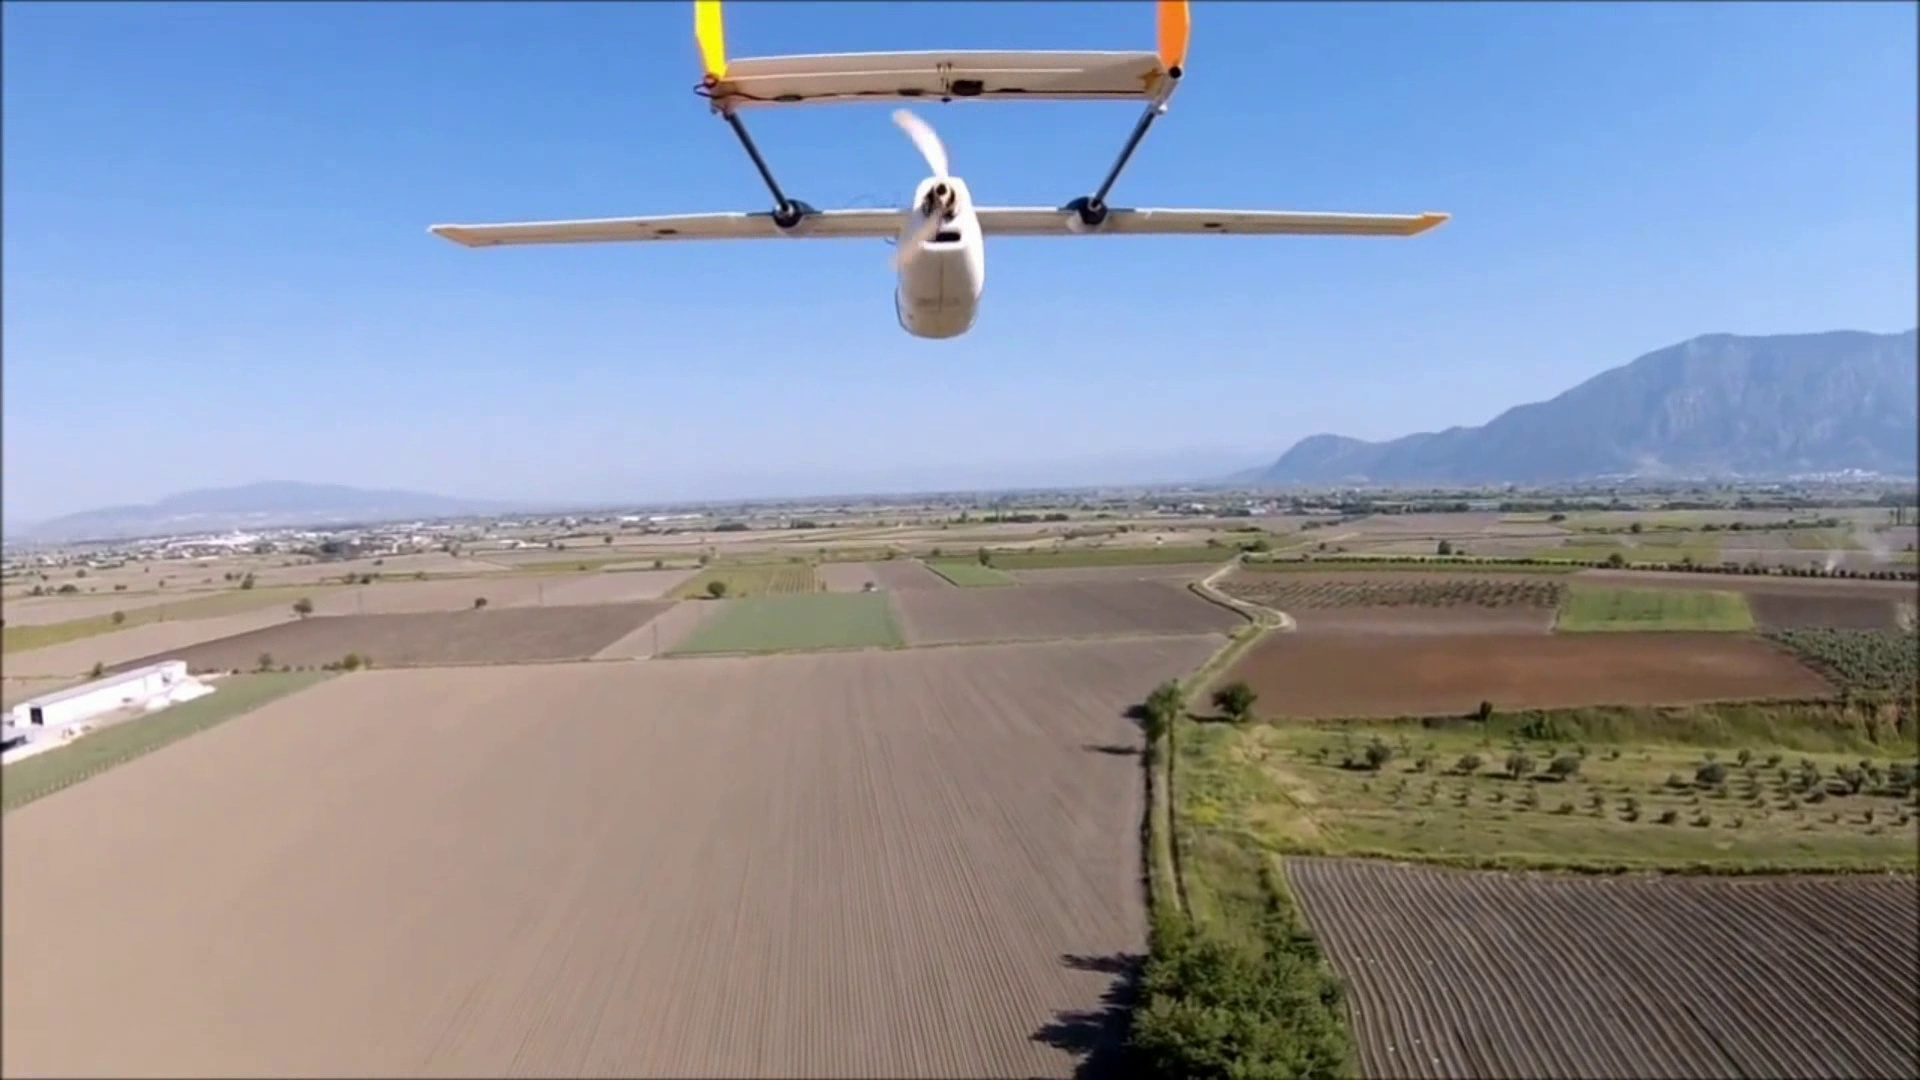airplane: (427, 3, 1449, 340)
